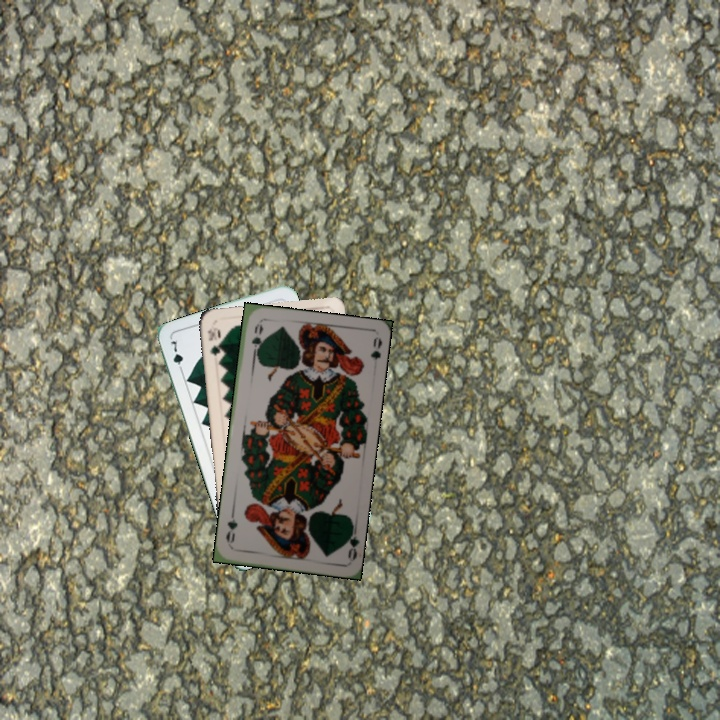G10: (204, 324, 223, 358)
G7: (167, 336, 186, 376)
GO: (340, 521, 360, 562), (248, 319, 265, 360)
